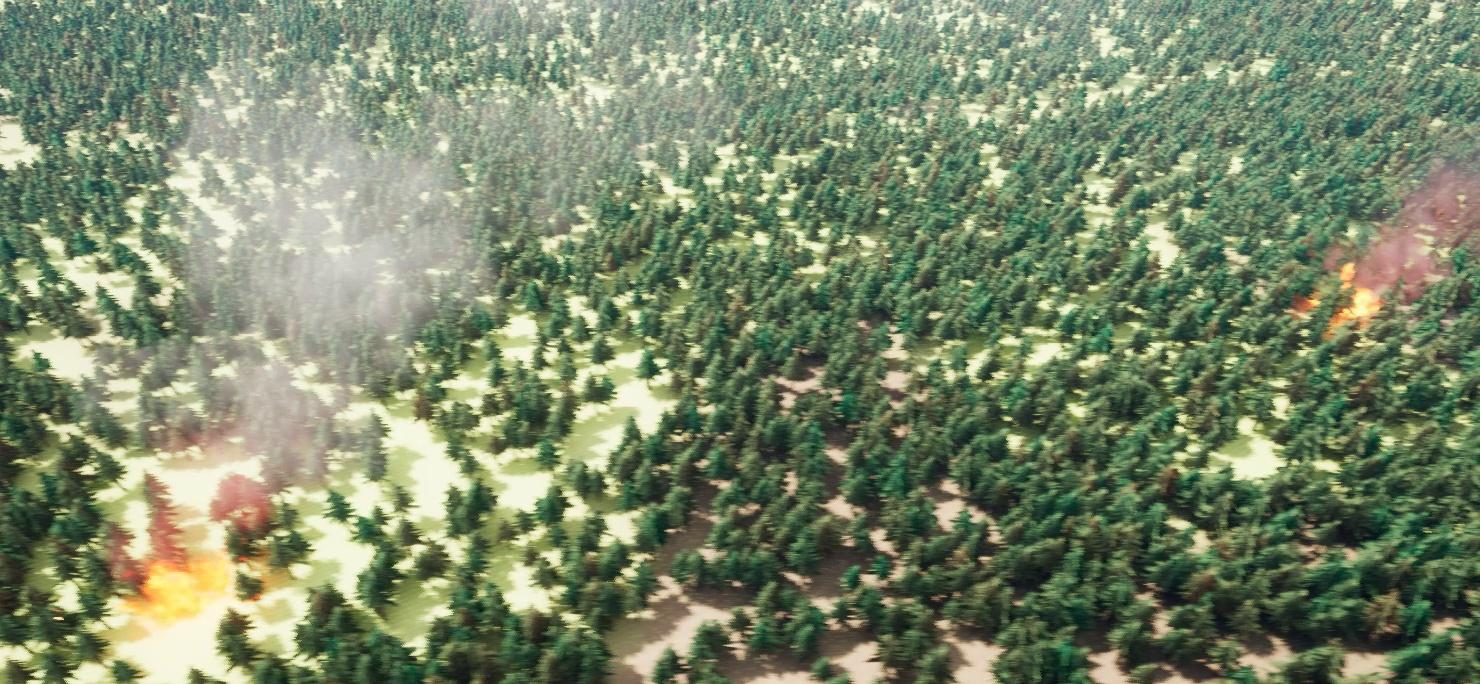fire: (125, 549, 243, 625), (1302, 262, 1400, 339)
smoke: (82, 0, 736, 536), (1354, 166, 1479, 280)
